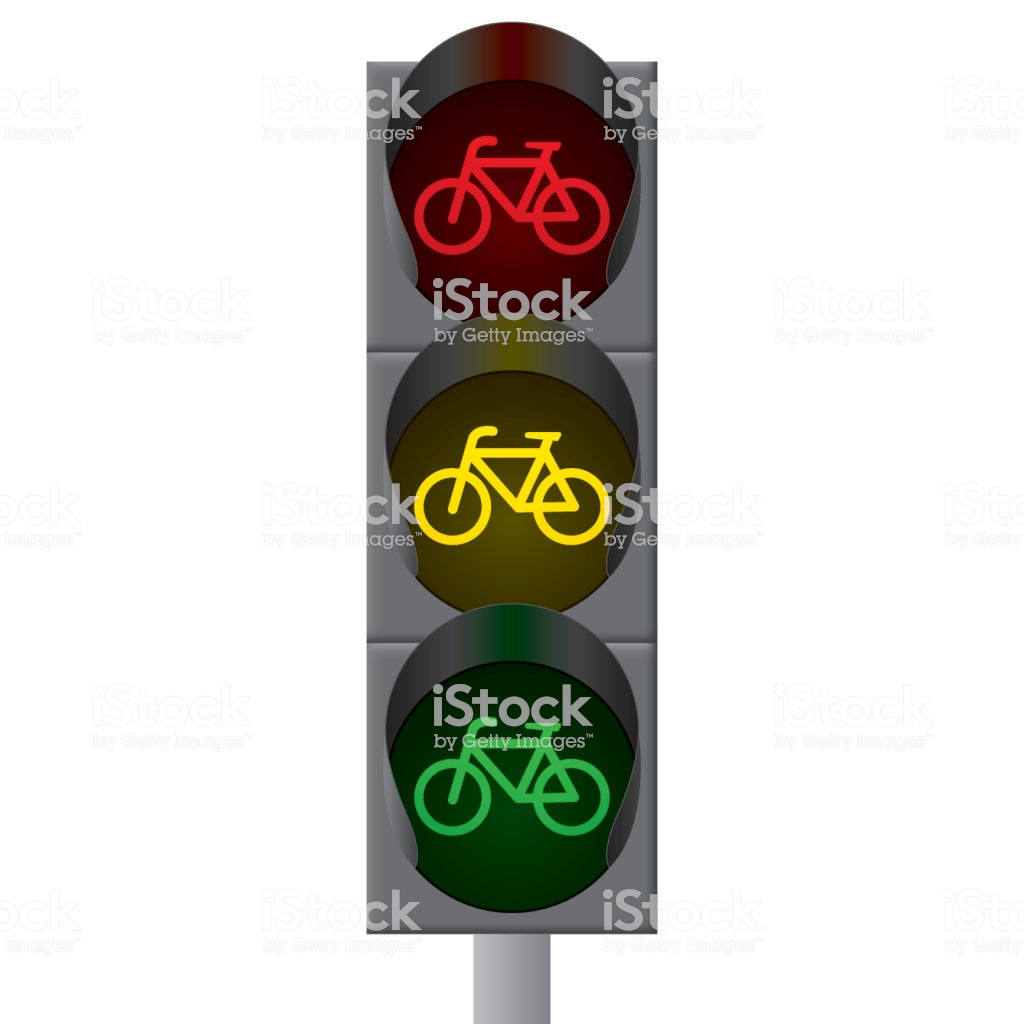trafficLight: (317, 15, 695, 956)
